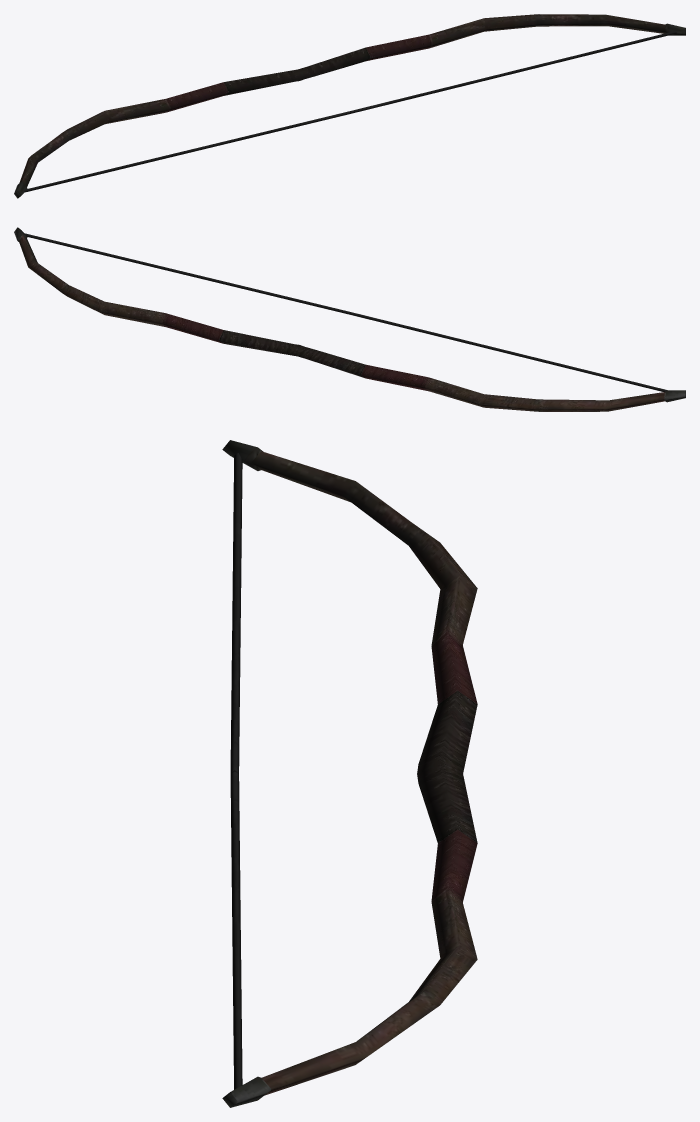
The model's file is KM_BOW_07.glb.
3 renders of one model, top to bottom at view 1: azimuth 30°, elevation 25°; view 2: azimuth 150°, elevation 25°; view 3: azimuth 270°, elevation 25°, orthographic. The views are drawn at different scales.
Visible parts, largest first — view 1: KM_BOW_07; view 2: KM_BOW_07; view 3: KM_BOW_07.
Part boxes in pixels (x1,y1,x2,y2): KM_BOW_07: [14, 14, 685, 198]; KM_BOW_07: [14, 227, 685, 411]; KM_BOW_07: [222, 440, 477, 1107].
Bounding box in the file's own units: 1.87 × 0.0373 × 0.3082.
1 material, 1 textured.
